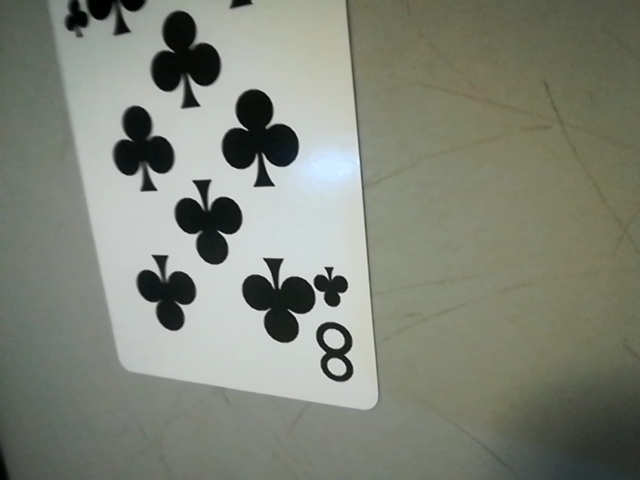mh 8: (305, 261, 370, 397)
